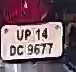1: (33, 27, 42, 41)
4: (40, 27, 49, 40)
6: (33, 40, 41, 58)
7: (46, 40, 56, 56), (40, 41, 46, 56)
9: (25, 43, 33, 56)
C: (15, 44, 25, 57)
D: (8, 43, 16, 57)
P: (23, 29, 31, 42)
U: (14, 28, 24, 41)
